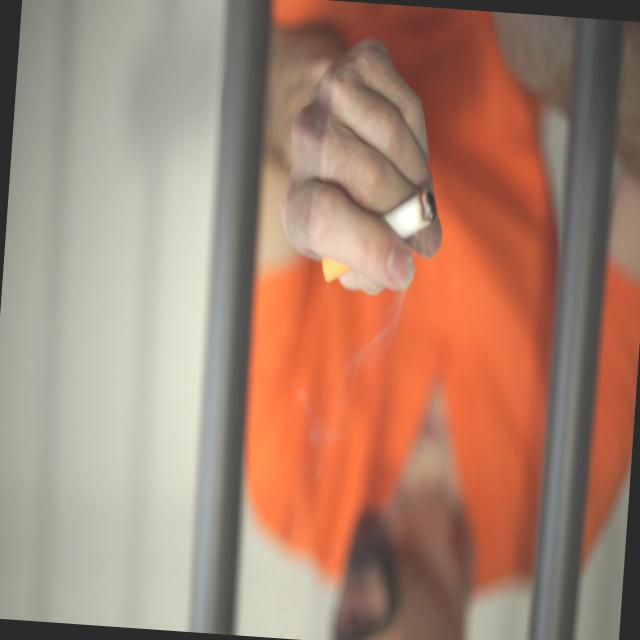smoke: (389, 180, 438, 250)
